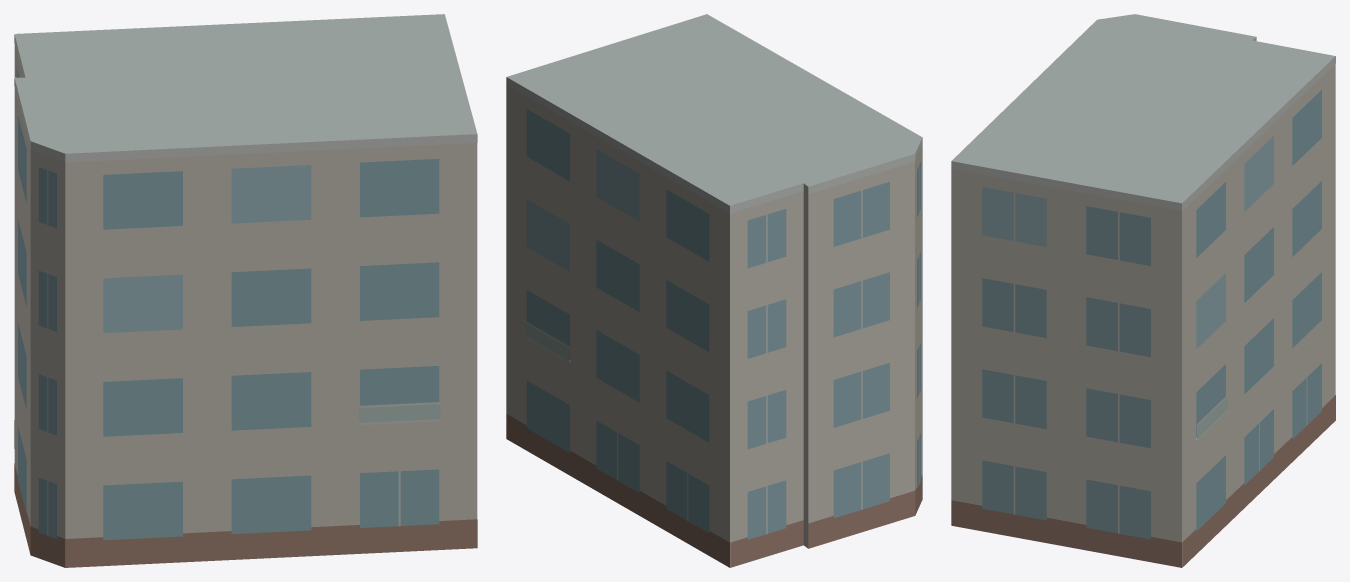
Rendered from survey-upis-32957502.glb.
3 views of the same model, side by side, from view 1: azimuth 30°, elevation 25°; view 2: azimuth 150°, elevation 25°; view 3: azimuth 270°, elevation 25° (orthographic). The views are drawn at different scales.
Parts seen in each view (by area): view 1: survey-upis-32957502.tmp; view 2: survey-upis-32957502.tmp; view 3: survey-upis-32957502.tmp.
Boxes of the visible parts, x1=… form: survey-upis-32957502.tmp: x1=14, y1=14, x2=477, y2=567; survey-upis-32957502.tmp: x1=506, y1=14, x2=922, y2=567; survey-upis-32957502.tmp: x1=951, y1=14, x2=1335, y2=567.
Bounding box in the file's own units: 12.93 × 11.6 × 11.1.
